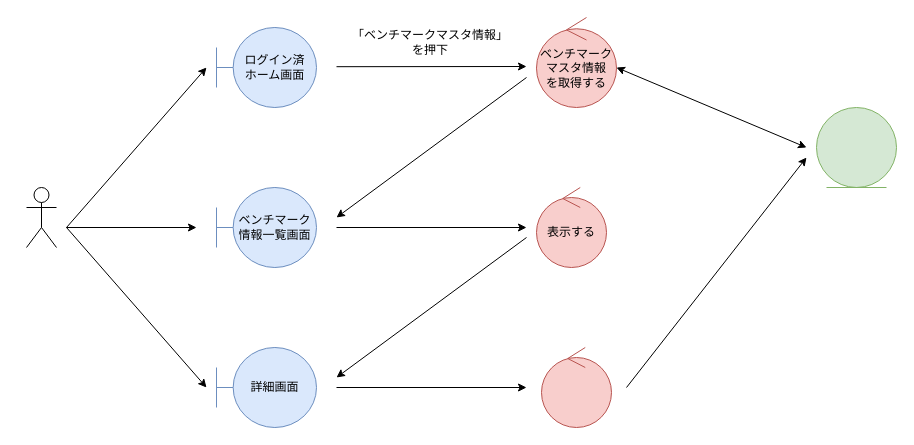
Image size: 914x445. Some labels were removed from this diagram. Here are the shapes that lost their labels. From the top down, the centre of each, then its label:
(856,147): ベンチマーク情報
(41,217): 管理者 正規社員
(576,387): 削除する
